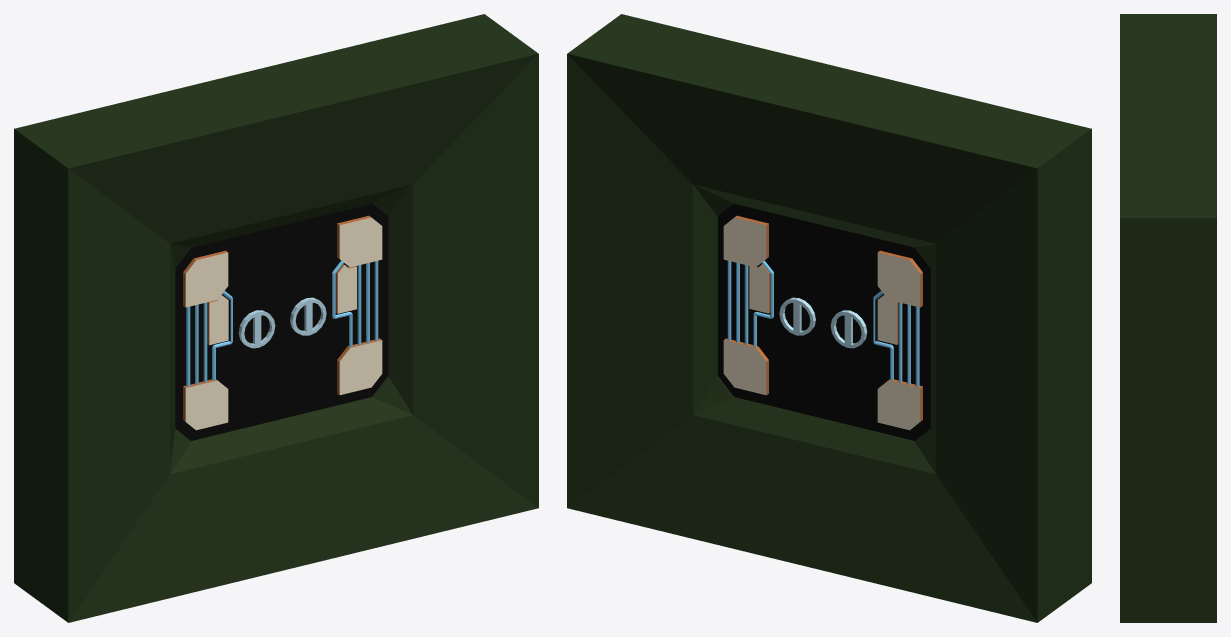
The model's file is dvere.fbx.
The picture shows the model from 3 angles, left to right: view 1: azimuth 30°, elevation 25°; view 2: azimuth 150°, elevation 25°; view 3: azimuth 270°, elevation 25°; orthographic projection. The views are drawn at different scales.
Parts seen in each view (by area): view 1: kraj_dveri, dvere_prave, dvere_leve; view 2: kraj_dveri, dvere_prave, dvere_leve; view 3: kraj_dveri.
Boxes of the visible parts, x1,y1,x2,y2 form: kraj_dveri: (14,14,538,622); dvere_prave: (281,203,387,418); dvere_leve: (175,226,281,440); kraj_dveri: (567,14,1091,622); dvere_prave: (718,203,824,418); dvere_leve: (824,226,930,440); kraj_dveri: (1120,14,1216,622).
Size of the model in its own units: 550 by 508 by 110.
